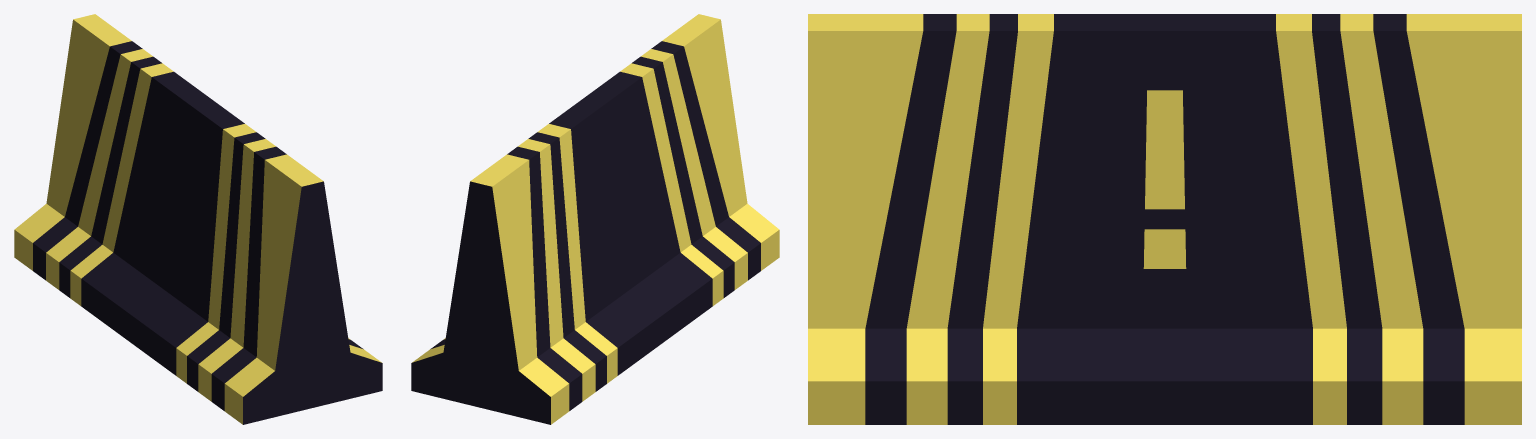
Rendered from stopper2.fbx.
3 renders of one model, left to right at view 1: azimuth 30°, elevation 25°; view 2: azimuth 150°, elevation 25°; view 3: azimuth 270°, elevation 25°, orthographic. The views are drawn at different scales.
Visible parts, largest first — view 1: Stopper2; view 2: Stopper2; view 3: Stopper2.
Part boxes in pixels (bbox=[...]): Stopper2: bbox=[14, 14, 382, 424]; Stopper2: bbox=[411, 14, 779, 424]; Stopper2: bbox=[808, 14, 1521, 424].
Size of the model in its own units: 2 by 3.07 by 5.68.
